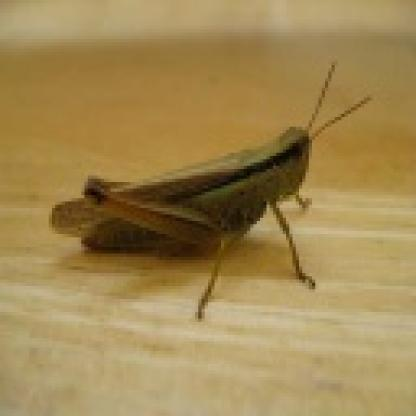grasshopper: (48, 62, 371, 322)
